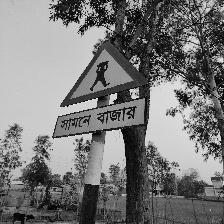Market-in-front: (51, 39, 149, 138)
